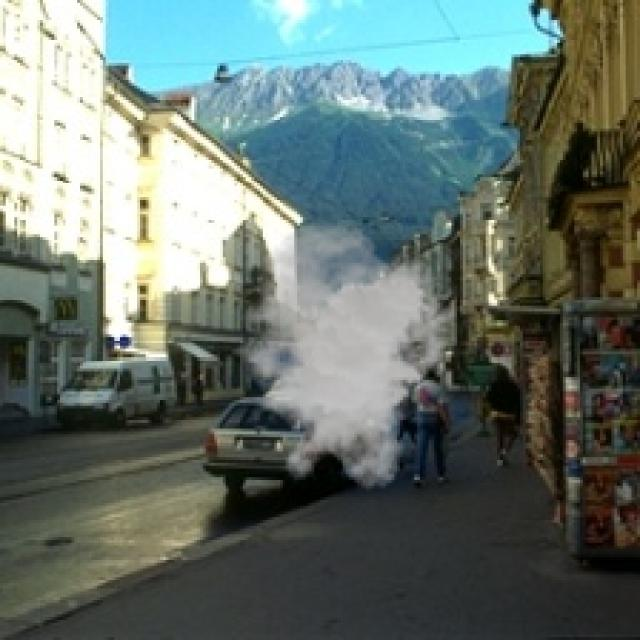smoke: (220, 220, 457, 491)
